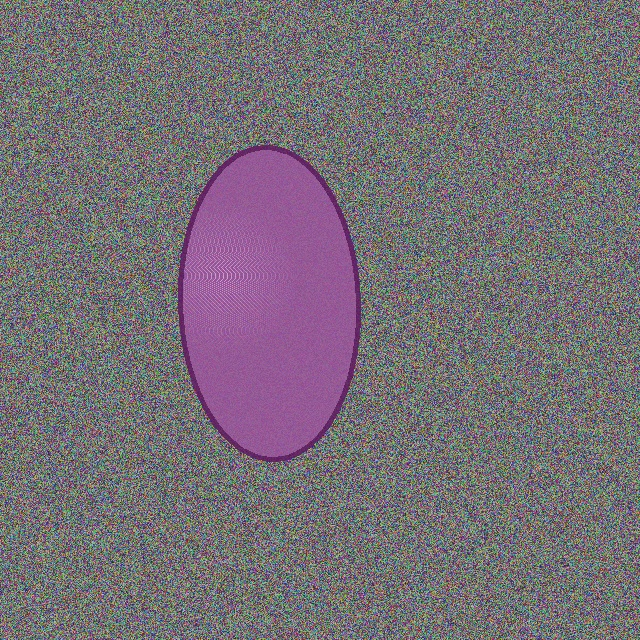lens: (180, 147, 358, 459)
